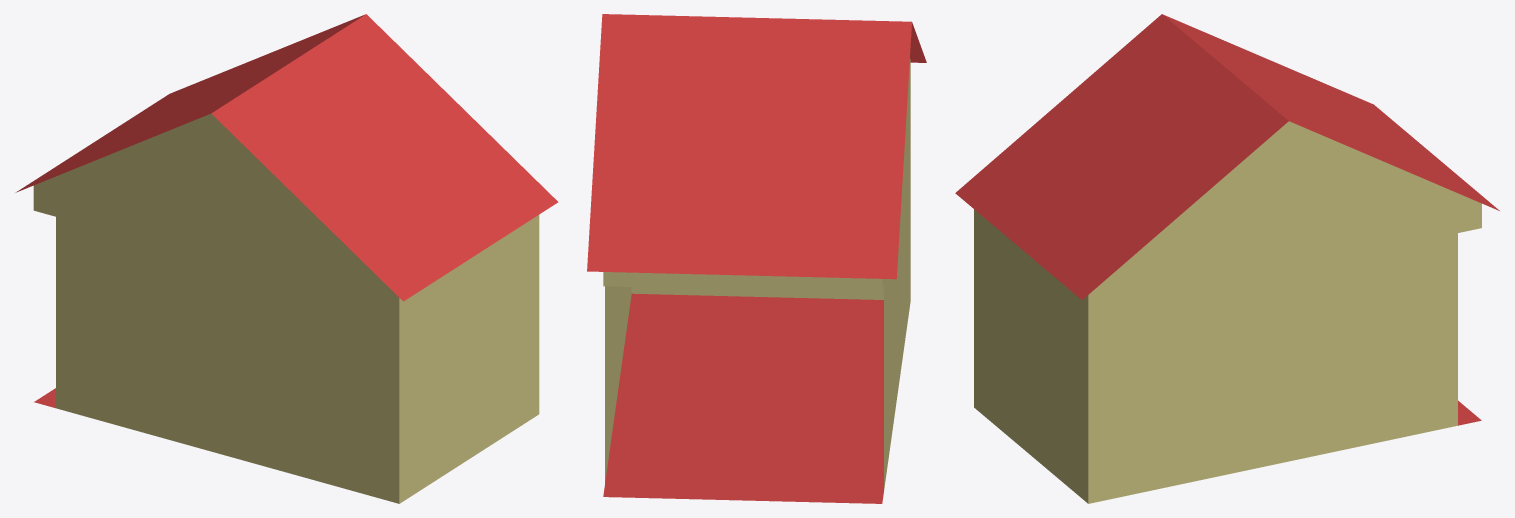
3 renders of one model, left to right at view 1: azimuth 30°, elevation 25°; view 2: azimuth 150°, elevation 25°; view 3: azimuth 270°, elevation 25°, orthographic. The views are drawn at different scales.
Visible parts, largest first — view 1: group_5, group_3, group_4; view 2: group_3, group_6, group_5, group_4; view 3: group_5, group_3, group_4.
Boxes of the visible parts, box(x1,y1,x2,y2) form: group_5: box(33, 113, 539, 503); group_3: box(15, 14, 538, 284); group_4: box(160, 14, 558, 301); group_3: box(587, 14, 926, 279); group_6: box(603, 293, 883, 503); group_5: box(603, 59, 910, 490); group_4: box(892, 21, 911, 100); group_5: box(974, 121, 1481, 503); group_3: box(974, 14, 1499, 283); group_4: box(955, 14, 1288, 299).
Size of the model in its own units: 16.49 by 19.42 by 13.62.
